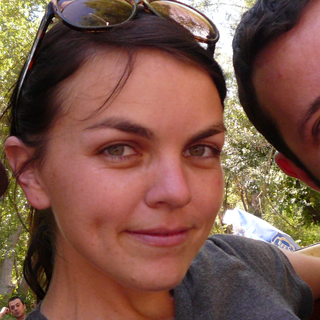eye: (94, 136, 145, 164), (177, 140, 221, 163)
